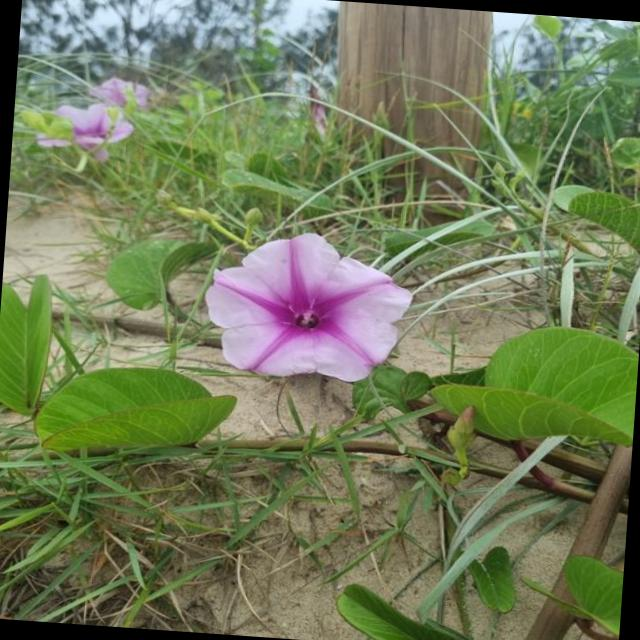ipomoea: (194, 223, 420, 389)
